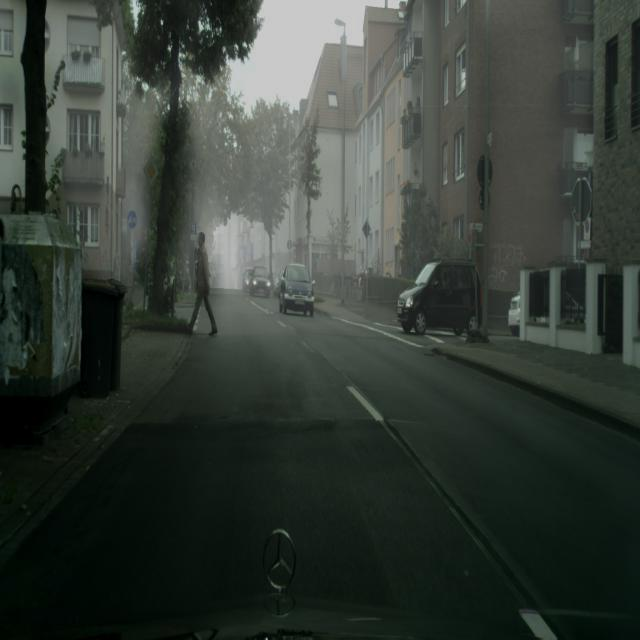bus: (397, 258, 482, 336), (278, 262, 315, 317), (248, 266, 272, 298), (508, 293, 521, 336)
person: (187, 232, 218, 335)
